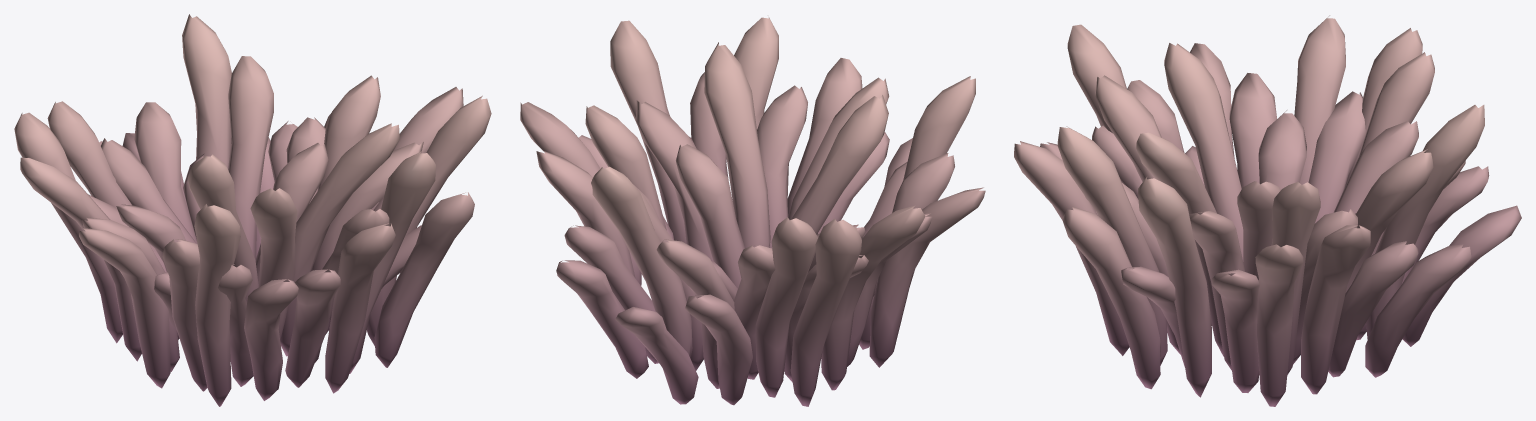
Rendered from anemone.glb.
The picture shows the model from 3 angles, left to right: view 1: azimuth 30°, elevation 25°; view 2: azimuth 150°, elevation 25°; view 3: azimuth 270°, elevation 25°; orthographic projection. The views are drawn at different scales.
Parts seen in each view (by area): view 1: world; view 2: world; view 3: world.
Part boxes in pixels (x1,y1,x2,y2): world: (14, 14, 491, 406); world: (520, 17, 985, 406); world: (1014, 15, 1521, 406).
Bounding box in the file's own units: 0.944 × 0.5333 × 0.9267.
